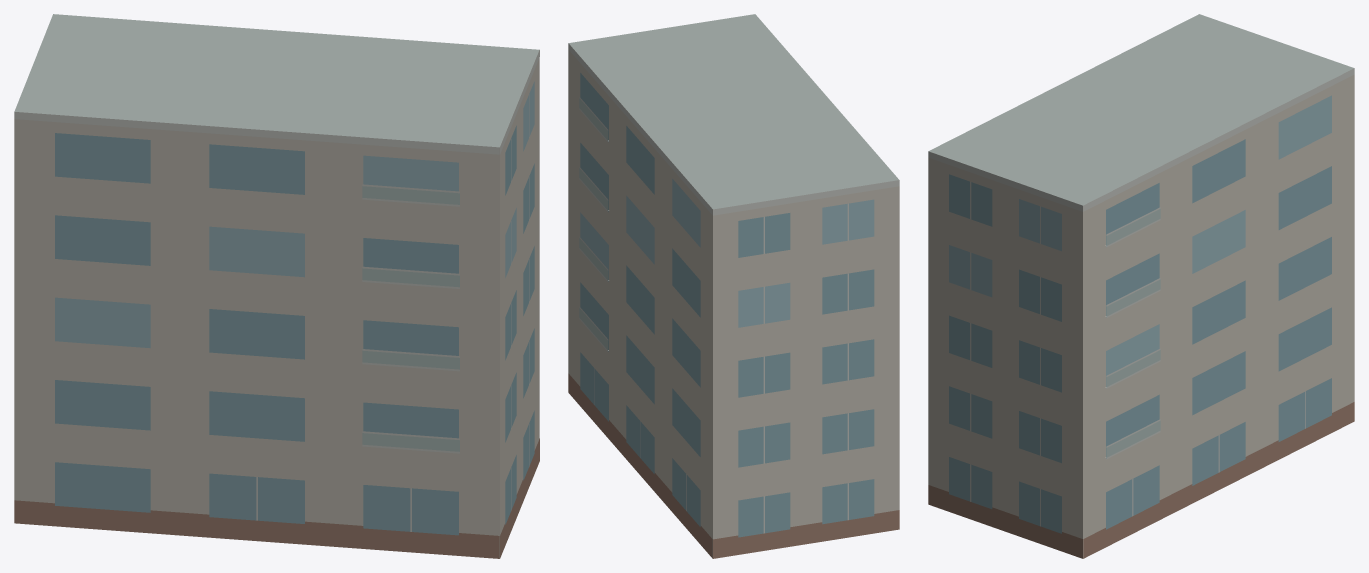
Rendered from survey-upis-32767486.glb.
3 views of the same model, side by side, from view 1: azimuth 30°, elevation 25°; view 2: azimuth 150°, elevation 25°; view 3: azimuth 270°, elevation 25° (orthographic). The views are drawn at different scales.
Visible parts, largest first — view 1: survey-upis-32767486.tmp; view 2: survey-upis-32767486.tmp; view 3: survey-upis-32767486.tmp.
Boxes of the visible parts, x1=… form: survey-upis-32767486.tmp: x1=14, y1=14, x2=539, y2=558; survey-upis-32767486.tmp: x1=568, y1=14, x2=899, y2=558; survey-upis-32767486.tmp: x1=928, y1=14, x2=1354, y2=558.
Bounding box in the file's own units: 16.01 × 13.75 × 15.05.
